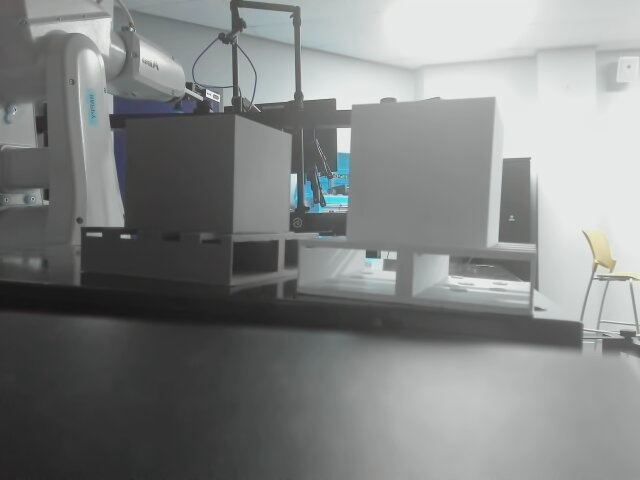grey pallet: (78, 112, 325, 292)
white pallet: (292, 95, 549, 321)
